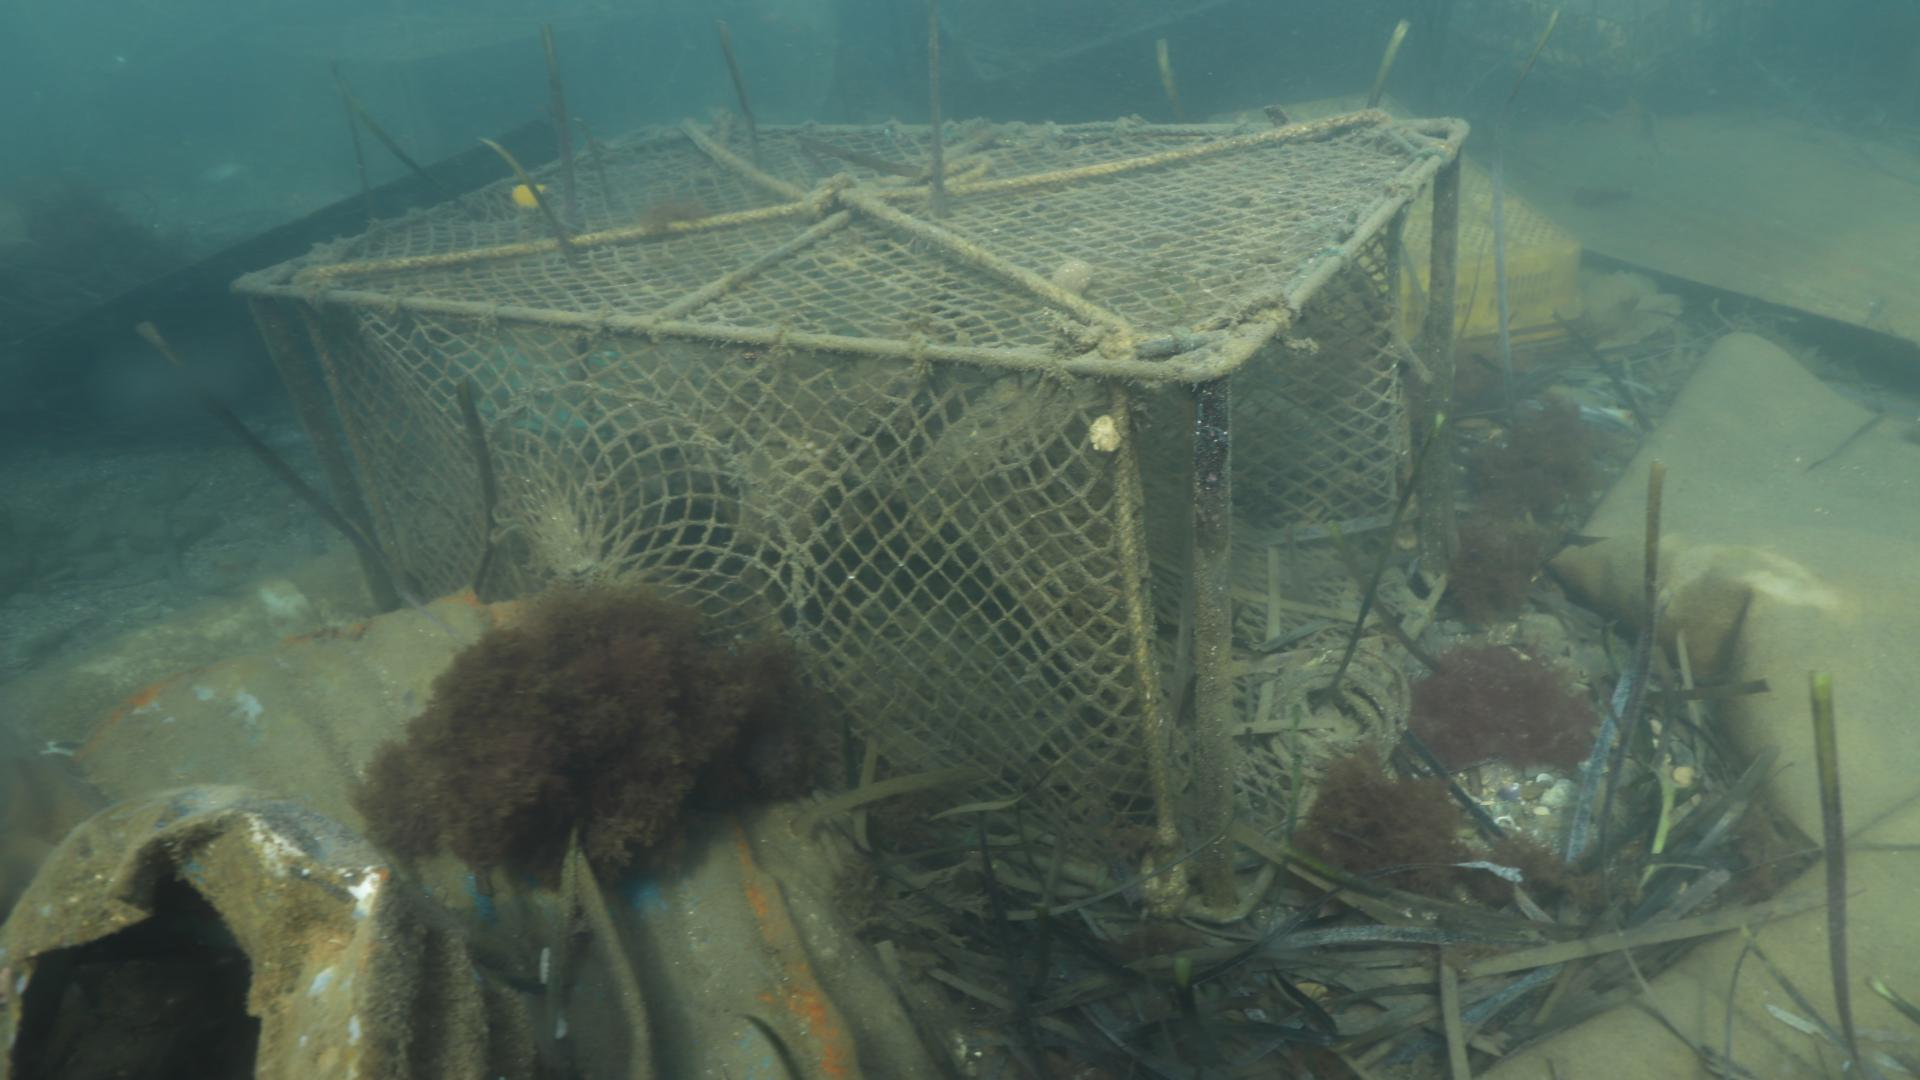rectangular fish trap: (225, 109, 1480, 934)
